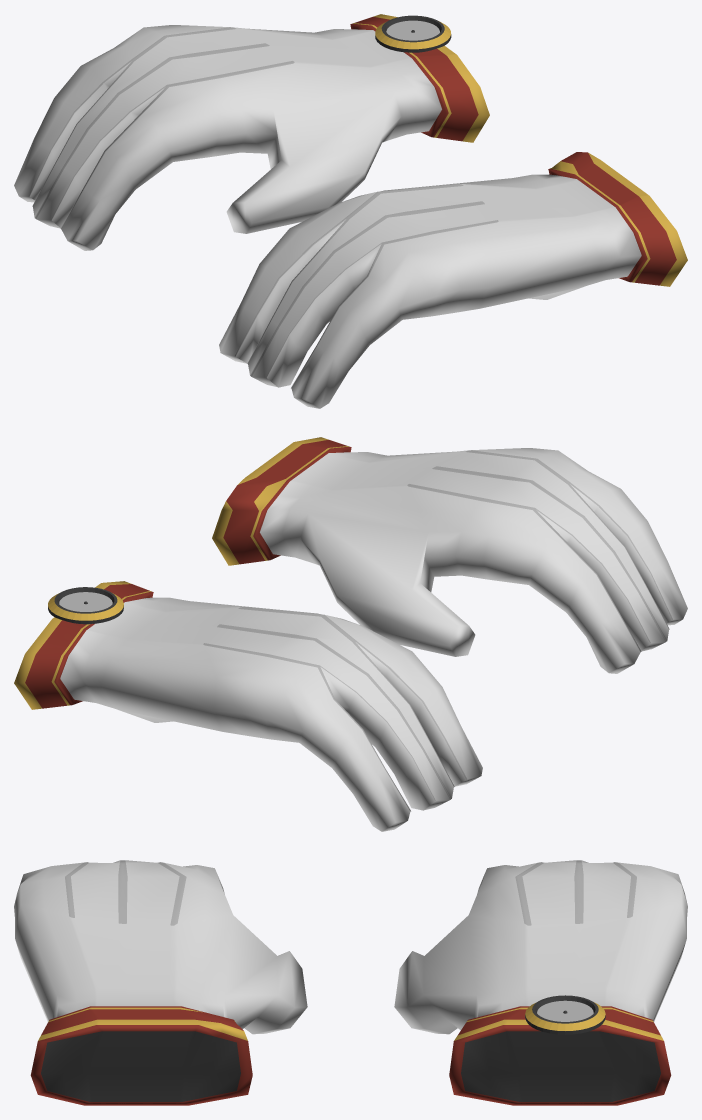
Rendered from elevatorHandsWatch 1.fbx.
3 views of the same model, one above another, from view 1: azimuth 30°, elevation 25°; view 2: azimuth 150°, elevation 25°; view 3: azimuth 270°, elevation 25° (orthographic). The views are drawn at different scales.
Parts seen in each view (by area): view 1: eHandR, eHandR.001; view 2: eHandR.001, eHandR; view 3: eHandR.001, eHandR.
Part boxes in pixels (box(x1,y1,x2,y2)): eHandR: box(14, 14, 489, 250); eHandR.001: box(219, 152, 687, 408); eHandR.001: box(212, 437, 687, 673); eHandR: box(14, 581, 482, 831); eHandR.001: box(14, 860, 307, 1105); eHandR: box(394, 860, 687, 1105).
Bounding box in the file's own units: 483 × 159 × 659.
